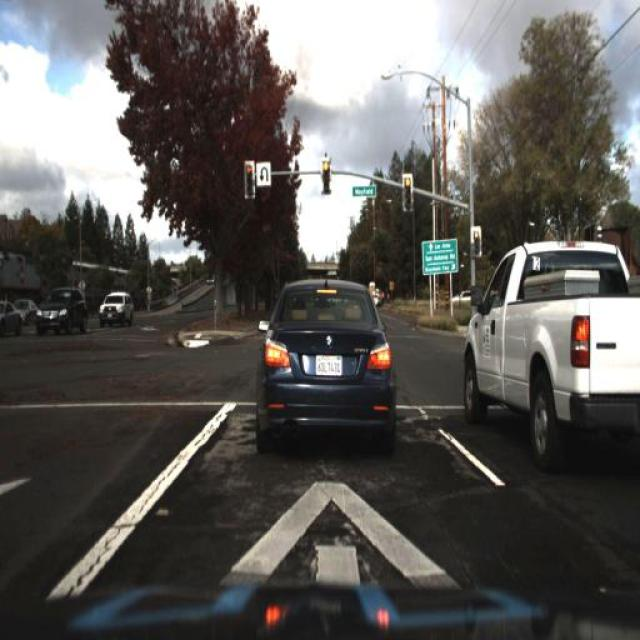car: (460, 238, 638, 470), (253, 275, 391, 445), (31, 287, 85, 337), (97, 289, 134, 326), (0, 298, 25, 338), (0, 298, 22, 338), (202, 272, 218, 288)
trafficLight-RedLeft: (468, 220, 484, 266), (399, 172, 416, 212), (319, 156, 333, 196), (471, 221, 482, 253)
trafficLight-Yellow: (242, 151, 257, 204), (242, 159, 254, 199)
